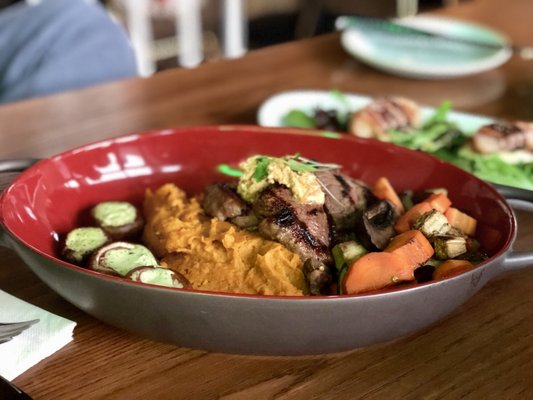burger: (0, 319, 40, 345)
sushi: (2, 120, 518, 359)
